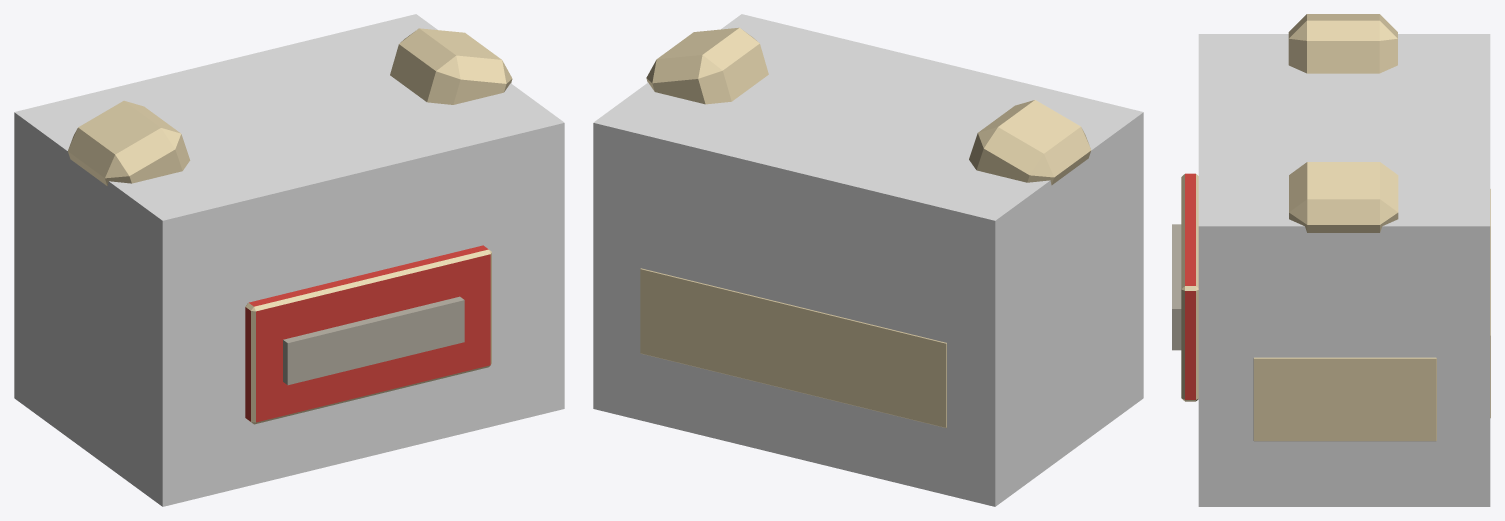
Rendered from prop_sack_a.glb.
The picture shows the model from 3 angles, left to right: view 1: azimuth 30°, elevation 25°; view 2: azimuth 150°, elevation 25°; view 3: azimuth 270°, elevation 25°; orthographic projection.
Visible parts, largest first — view 1: COL_prop_sack_a_1, prop_sack_a; view 2: COL_prop_sack_a_1, prop_sack_a; view 3: COL_prop_sack_a_1, prop_sack_a.
Boxes of the visible parts, x1,y1,x2,y2 form: COL_prop_sack_a_1: (14,14,564,506); prop_sack_a: (68,28,512,424); COL_prop_sack_a_1: (593,14,1143,506); prop_sack_a: (640,27,1091,428); COL_prop_sack_a_1: (1198,34,1490,506); prop_sack_a: (1172,14,1490,441).
Bounding box in the file's own units: 0.5071 × 0.3872 × 0.35.
